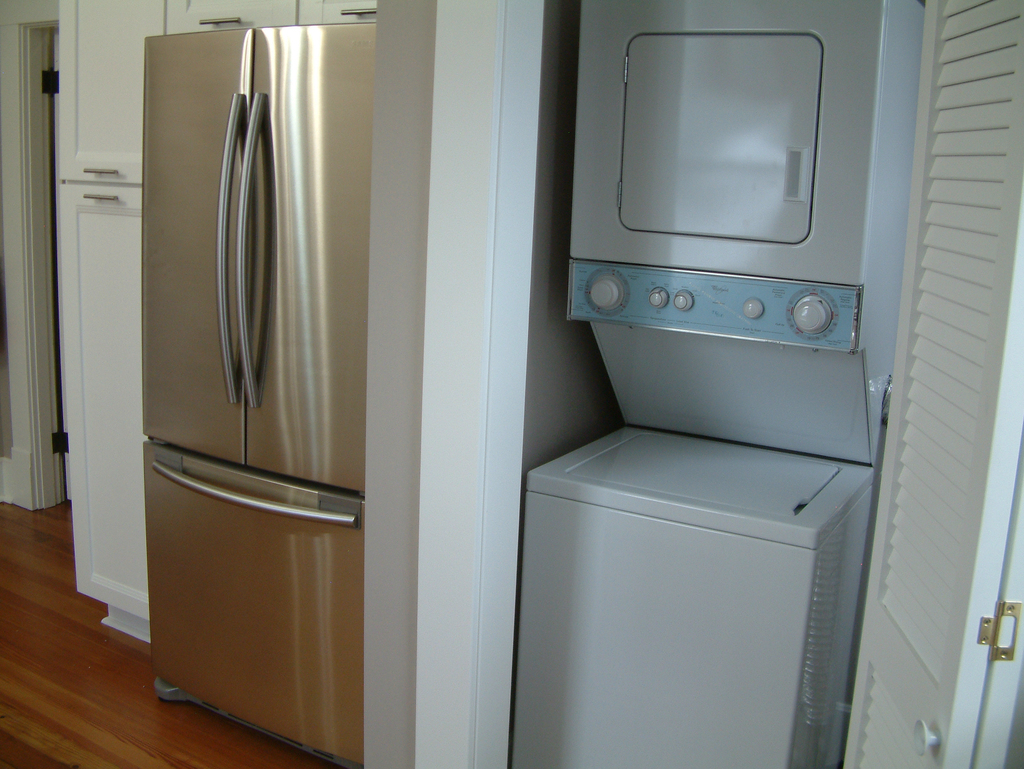cabinet door: (63, 190, 153, 588), (68, 19, 148, 183)
door: (932, 47, 1024, 769)
handle: (163, 460, 351, 536), (230, 89, 273, 393), (214, 100, 239, 381), (914, 708, 945, 755), (84, 193, 125, 210), (75, 166, 124, 175)
refrigerator door: (156, 464, 359, 718), (254, 37, 367, 469), (150, 38, 247, 464)
